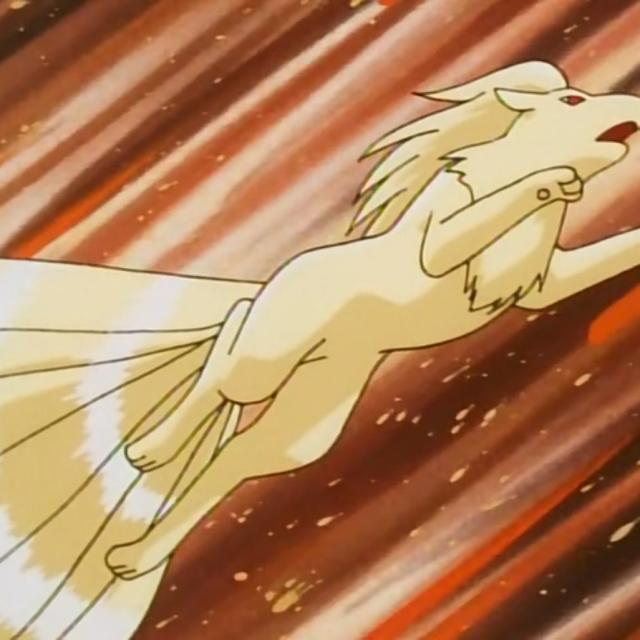Ninetales: (70, 74, 640, 594)
